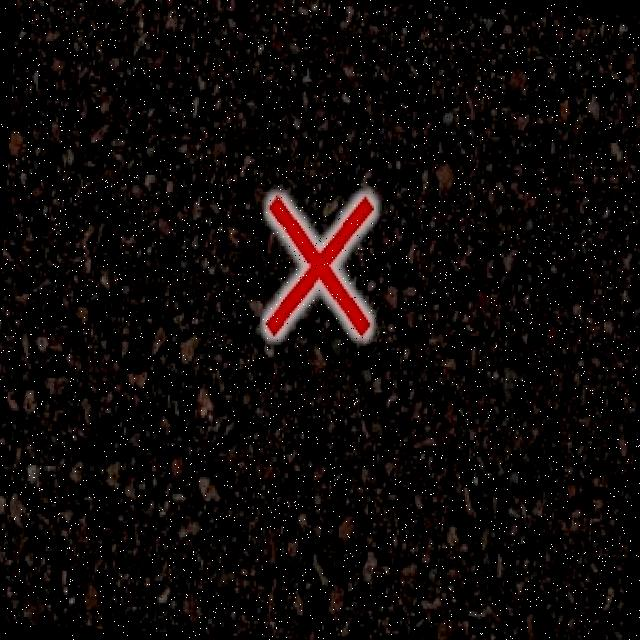x_marker: (262, 191, 376, 340)
